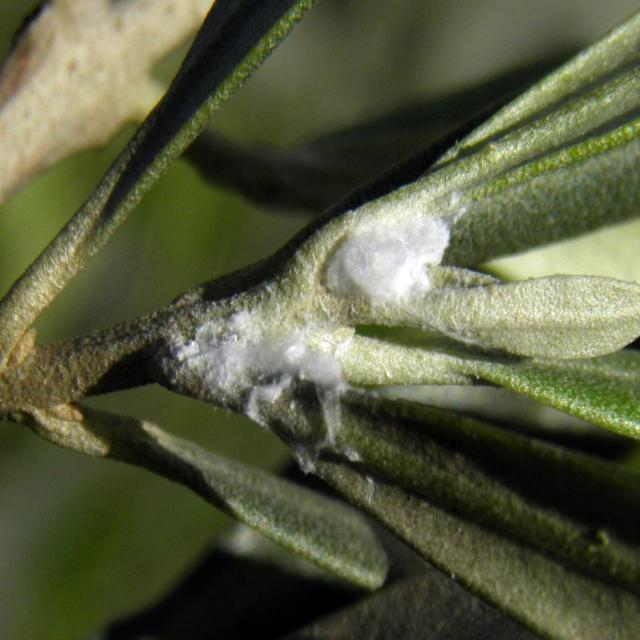Psyllid: (151, 329, 347, 472), (319, 177, 476, 336)
